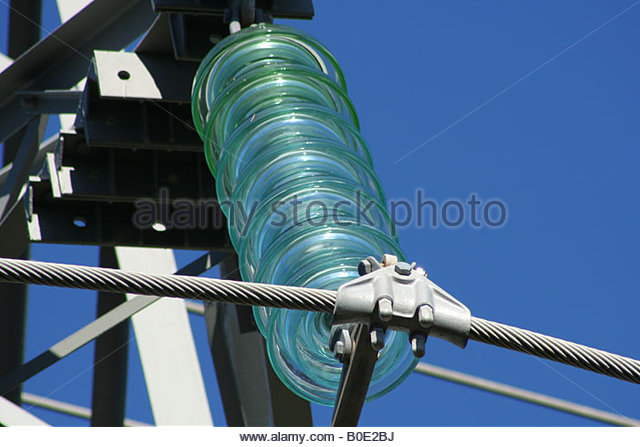isolator: (190, 23, 429, 407)
